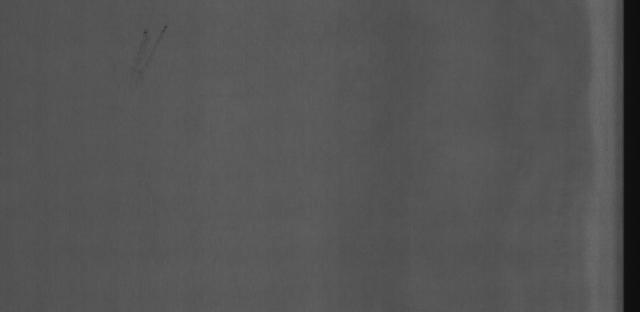water_spot: (113, 25, 175, 84)
